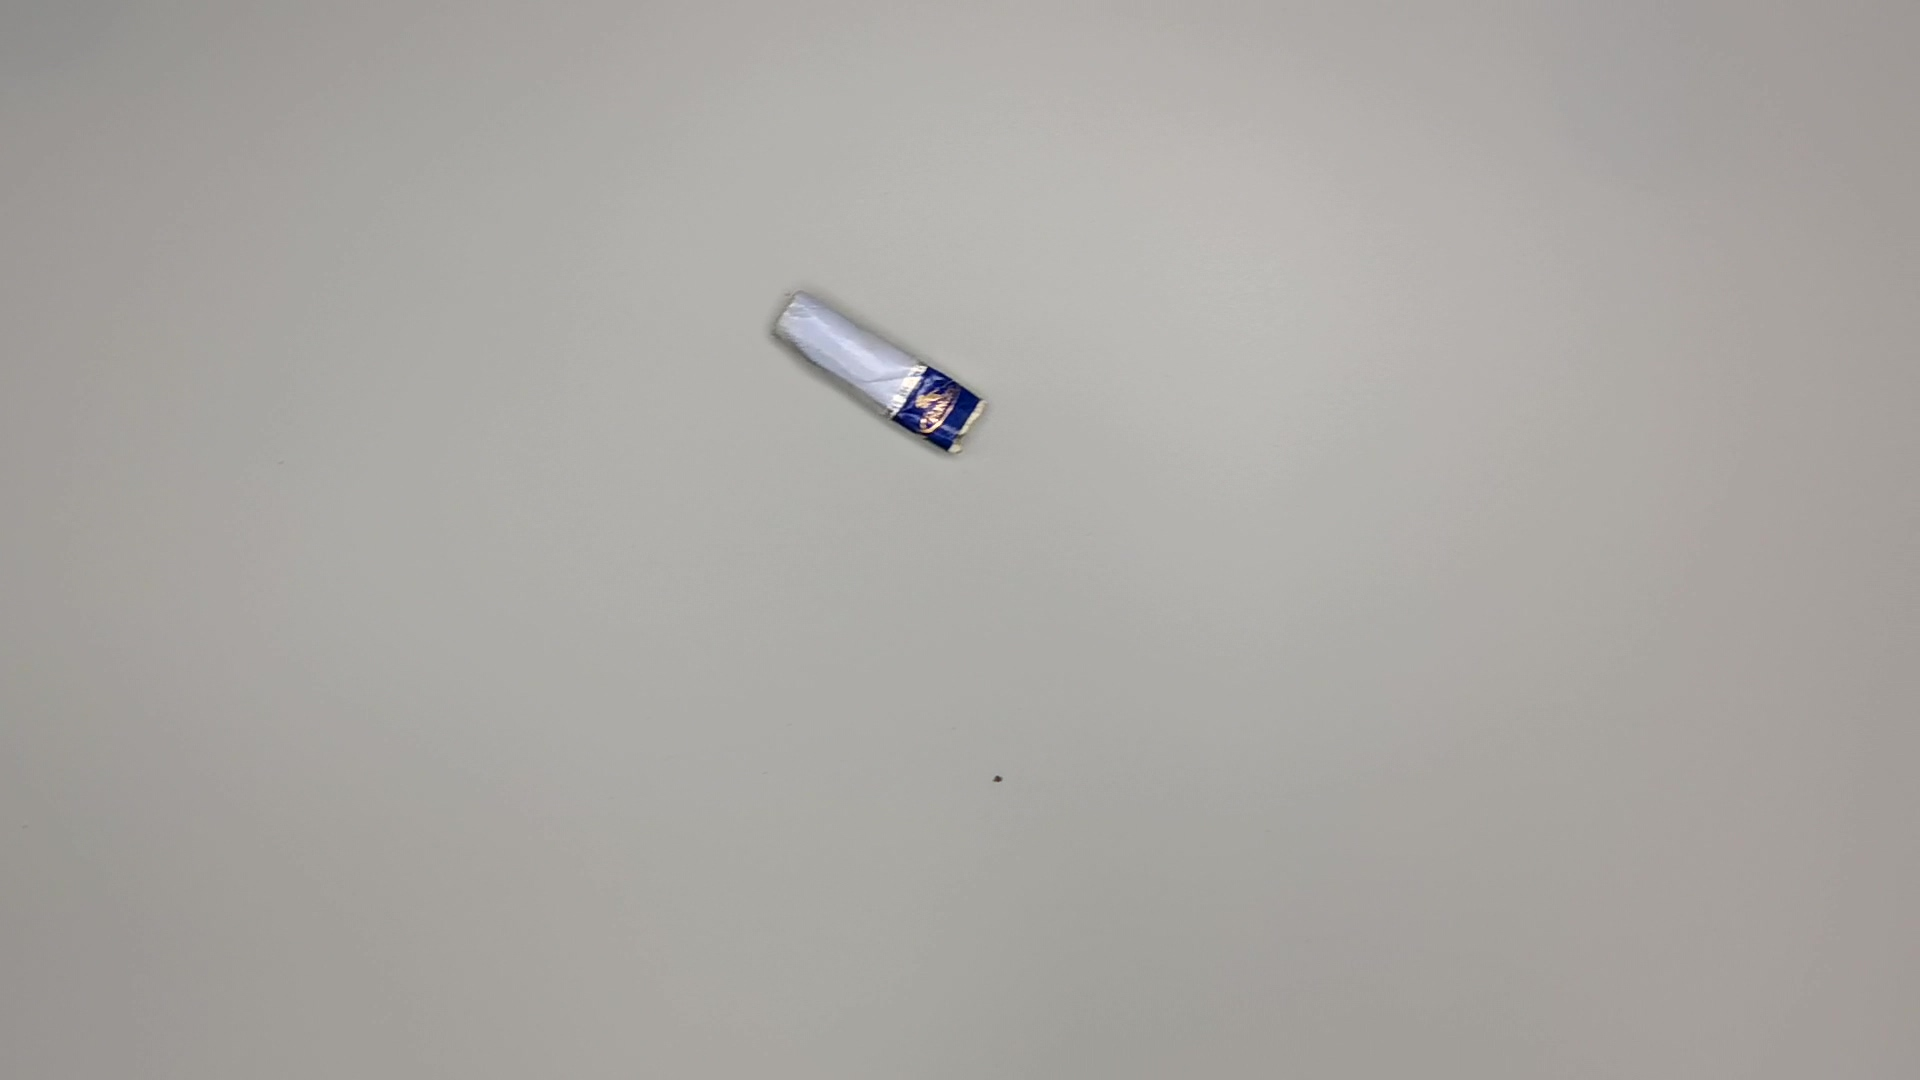cigarette: (764, 286, 997, 467)
